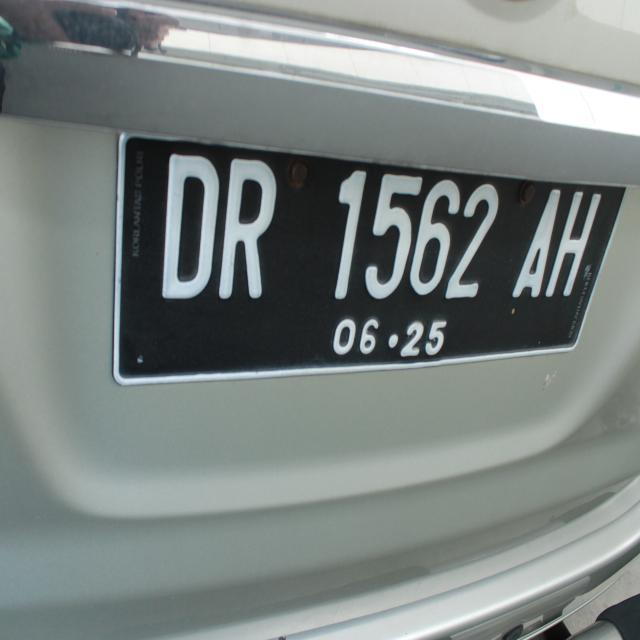1: (318, 156, 371, 314)
2: (443, 155, 502, 315)
5: (361, 154, 422, 305)
6: (405, 156, 462, 309)
A: (504, 159, 566, 321)
D: (146, 136, 224, 324)
H: (545, 170, 607, 316)
R: (211, 144, 283, 318)
